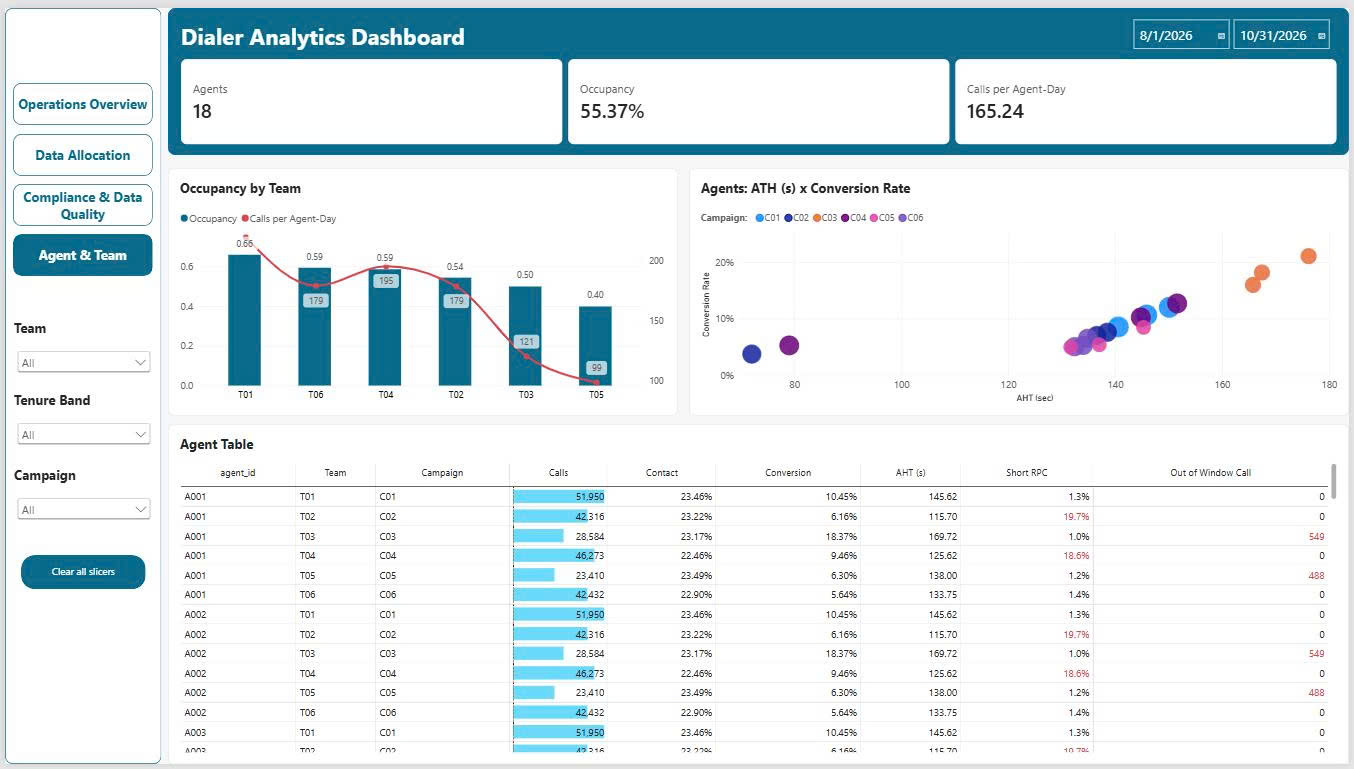

What the dashboard file says about the page in this screenshot:
{"tool":"powerbi","page":{"name":"Agent & Team","canvas":[1920,1080],"ordinal":3},"visuals":[{"type":"shape","box":[0,0,223.4,1080],"z":0},{"type":"shape","box":[12,107.7,199.5,59.9],"z":1000},{"type":"shape","box":[12,179.6,199.5,59.9],"z":2000},{"type":"shape","box":[12,251.4,199.5,59.9],"z":3000},{"type":"shape","box":[12,323.2,199.5,59.9],"z":4000},{"type":"shape","box":[232.8,0,1687.2,210.1],"z":5000},{"type":"cardVisual","fields":{"Data":["_Measures.Agents","_Measures.Occupancy","_Measures.Calls per Agent-Day"]},"box":[251,72.6,1653.9,122.5],"z":6000},{"type":"textbox","title":"Dialer Analytics Dashboard","box":[251.4,17.3,437.6,42.6],"z":7000},{"type":"scatterChart","title":"Agents: ATH (s) x Conversion Rate","fields":{"Category":["dw dim_agent.agent_id"],"Series":["dw dim_agent.campaign_id"],"Size":["_Measures.Total Calls"],"X":["_Measures.AHT (sec)"],"Y":["_Measures.Conversion Rate"]},"box":[976.6,228.3,943.4,353.8],"z":8000},{"type":"slicer","fields":{"Values":["dw dim_date.full_date"]},"box":[1604.4,10.8,300.1,57.2],"z":9000},{"type":"lineClusteredColumnComboChart","title":"Occupancy by Team","fields":{"Category":["dw dim_agent.team_id"],"Y":["_Measures.Occupancy"],"Y2":["_Measures.Calls per Agent-Day"]},"box":[232.8,228.8,727.5,353.8],"z":10000},{"type":"tableEx","title":"Agent Table","fields":{"Values":["dw vw_agent_risk.agent_id","dw dim_agent.team_id","dw dim_agent.campaign_id","_Measures.Total Calls","_Measures.Contact Rate","_Measures.Conversion Rate","_Measures.AHT (sec)","_Measures.Short RPC %","_Measures.Out of Window Call"]},"box":[232.9,593.7,1687.1,486.1],"z":11000},{"type":"slicer","title":"Team","fields":{"Values":["dw dim_agent.team_id"]},"box":[12.5,443.7,200,84.4],"z":12000},{"type":"slicer","title":"Tenure Band","fields":{"Values":["dw dim_agent.tenure_band"]},"box":[12.3,547.4,200.2,87.1],"z":13000},{"type":"slicer","title":"Campaign","fields":{"Values":["dw dim_agent.campaign_id"]},"box":[12.3,655,200.2,85.8],"z":14000},{"type":"actionButton","box":[23.1,781.6,178.4,49],"z":15000}]}

Visuals, with their boxes in screenshot pixels (x1, y1, x2, y2), scaled from the page's 1920x1080 canvas onto the 1354x769 screenshot:
shape: Rect(0, 0, 158, 768)
shape: Rect(8, 77, 149, 119)
shape: Rect(8, 128, 149, 171)
shape: Rect(8, 179, 149, 222)
shape: Rect(8, 230, 149, 273)
shape: Rect(164, 0, 1353, 150)
cardVisual - _Measures.Agents x _Measures.Occupancy: Rect(177, 52, 1343, 139)
"Dialer Analytics Dashboard" textbox: Rect(177, 12, 486, 43)
"Agents: ATH (s) x Conversion Rate" scatterChart: Rect(689, 163, 1353, 414)
slicer - dw dim_date.full_date: Rect(1131, 8, 1343, 48)
"Occupancy by Team" lineClusteredColumnComboChart: Rect(164, 163, 677, 415)
"Agent Table" tableEx: Rect(164, 423, 1353, 768)
"Team" slicer: Rect(9, 316, 150, 376)
"Tenure Band" slicer: Rect(9, 390, 150, 452)
"Campaign" slicer: Rect(9, 466, 150, 527)
actionButton: Rect(16, 557, 142, 591)
